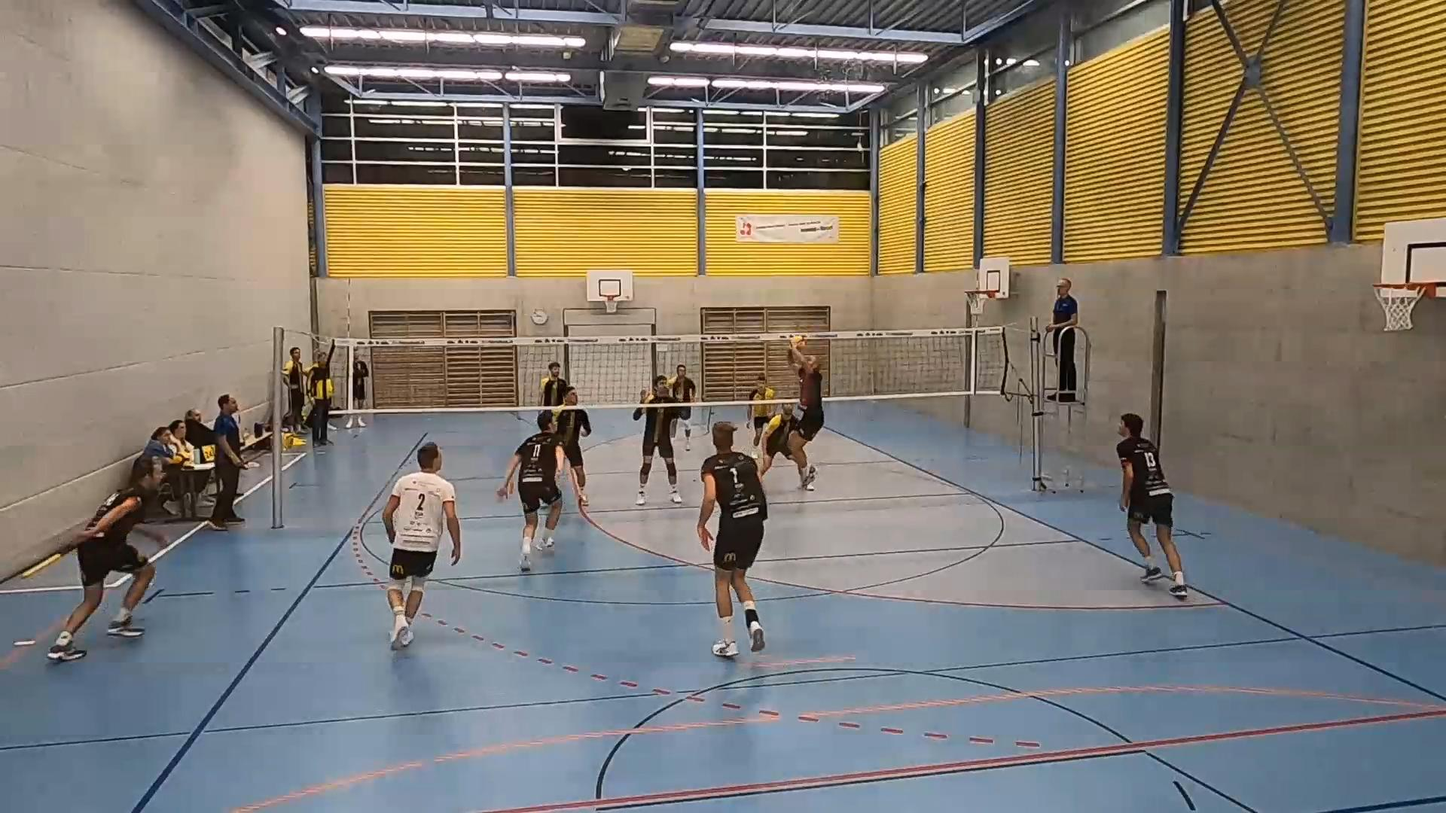alzata: (787, 345, 830, 462)
